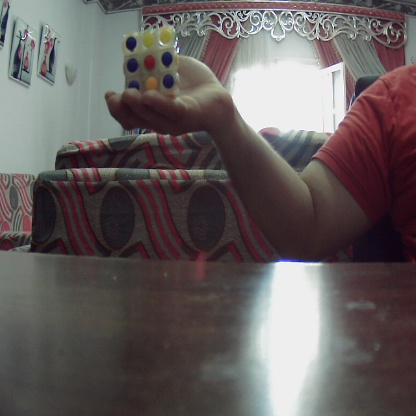Rubix Cube: (119, 30, 179, 98)
